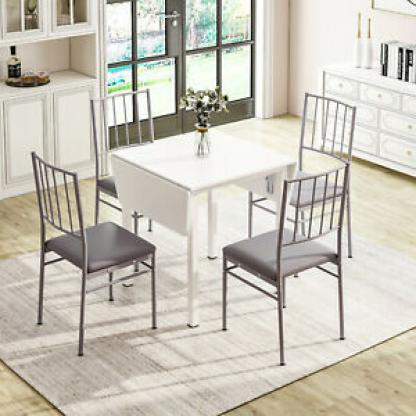chair: (214, 164, 359, 371), (30, 152, 160, 354), (241, 87, 359, 267), (89, 94, 166, 213)
door: (104, 0, 187, 140), (184, 3, 258, 127)
table: (108, 129, 289, 333)
